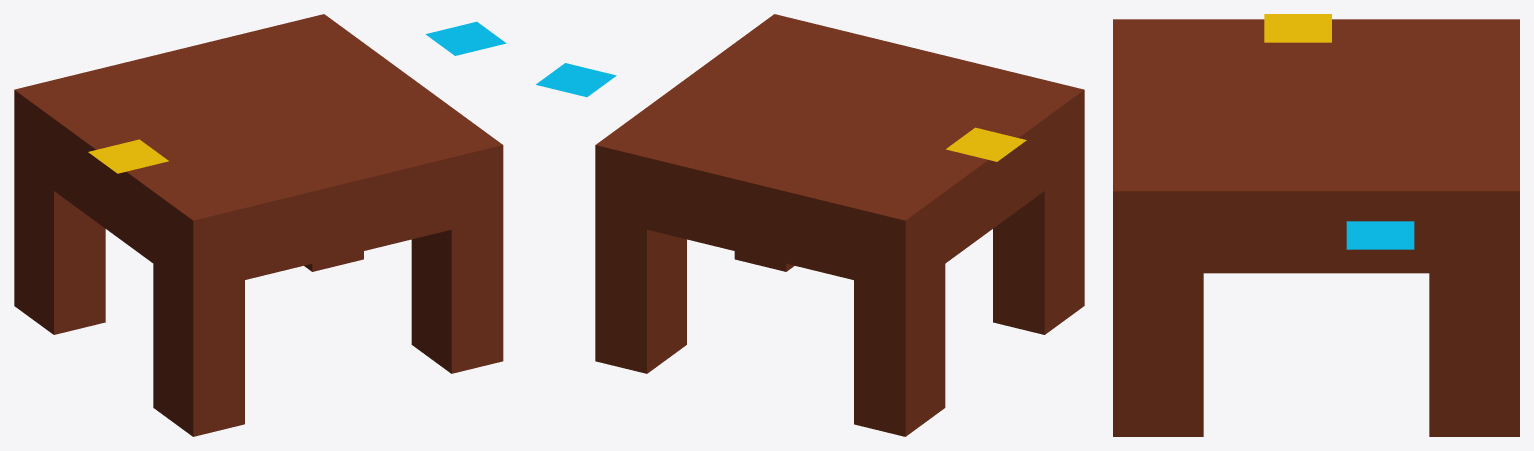
File: env.dae
The picture shows the model from 3 angles, left to right: view 1: azimuth 30°, elevation 25°; view 2: azimuth 150°, elevation 25°; view 3: azimuth 270°, elevation 25°; orthographic projection. The views are drawn at different scales.
Visible parts, largest first — view 1: base (×7); view 2: base (×6); view 3: base (×5).
Part boxes in pixels (left/top/right/bottom): base (×7): left=14, top=14, right=506, bottom=436; base (×6): left=536, top=14, right=1084, bottom=436; base (×5): left=1113, top=14, right=1519, bottom=436.
Size of the model in its own units: 1.23 by 0.9 by 0.601.
